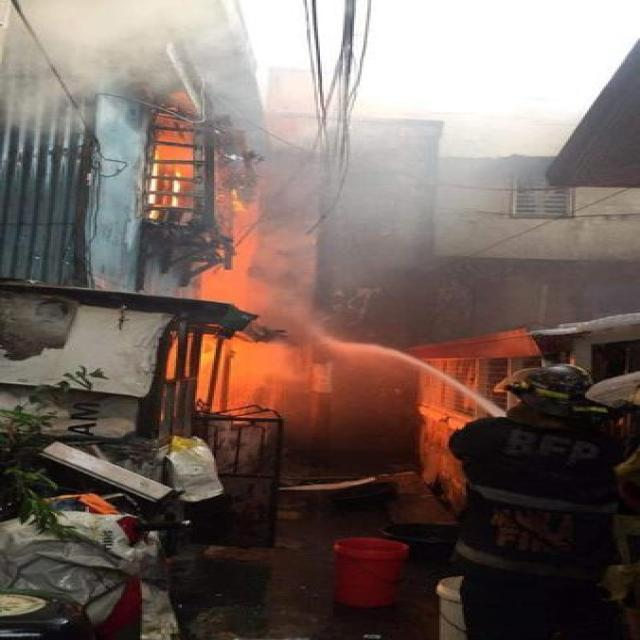Fire: (172, 200, 308, 318), (160, 335, 320, 419), (151, 119, 222, 222)
Smoke: (5, 4, 244, 112)
